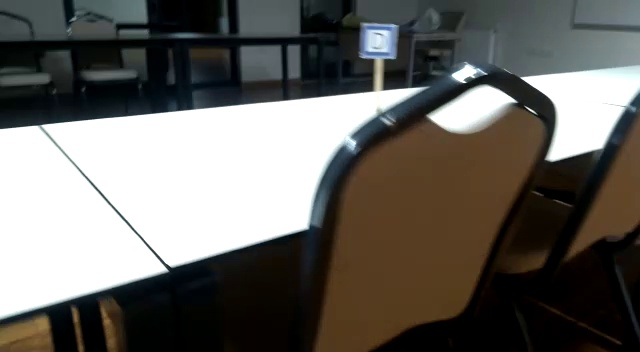durak: (359, 26, 398, 59)
